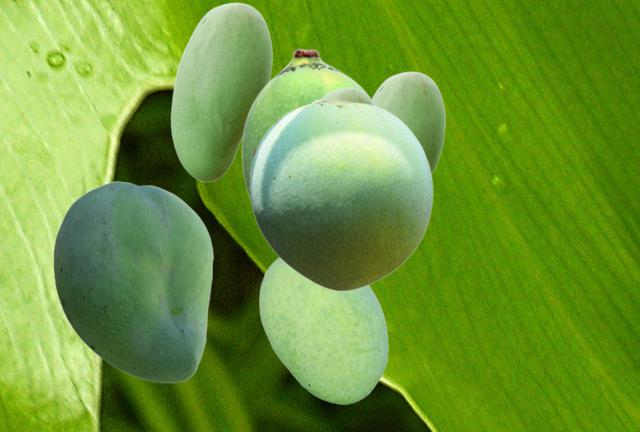green_mango: (249, 98, 432, 290), (53, 181, 212, 382), (241, 48, 376, 200), (259, 258, 387, 403), (170, 2, 271, 181), (372, 71, 444, 173), (321, 87, 374, 104)
